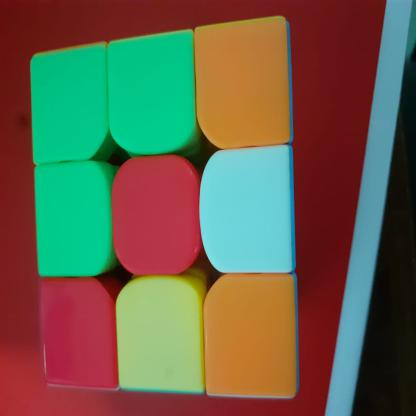cube: (21, 12, 304, 404)
